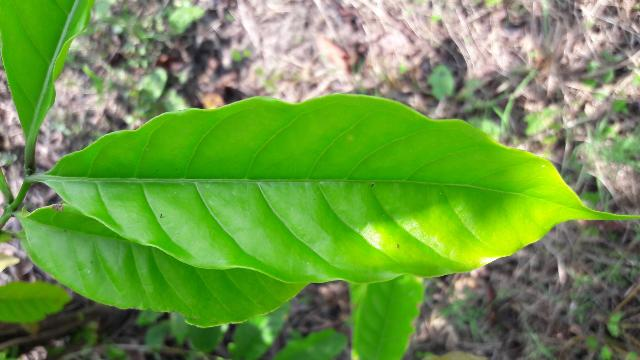healthy: (40, 100, 563, 272)
